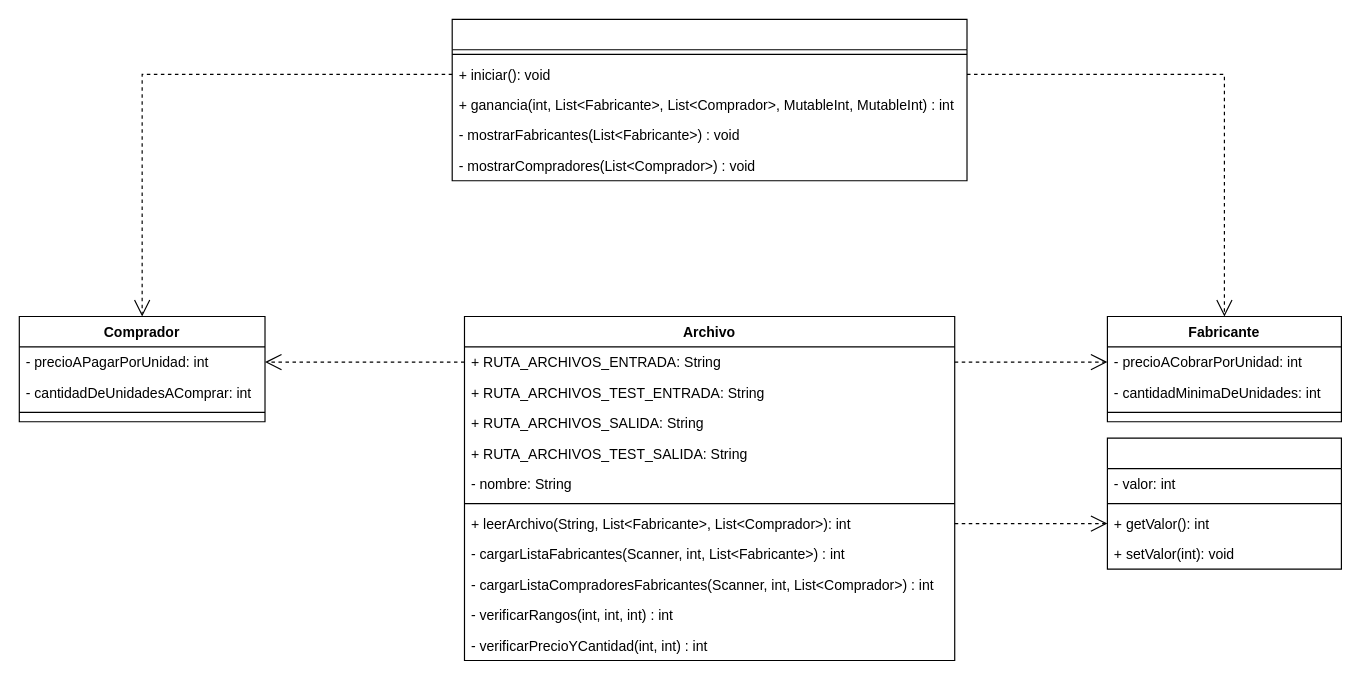
This 1361x680 diagram has some shape labels left out. The shapes that lost their labels are listed below. From the top down, each one's box as (x1, y1, x2, y2) in pixels, then its label:
(451, 18, 967, 181): Evaluador
(1106, 437, 1341, 569): MutableInt
